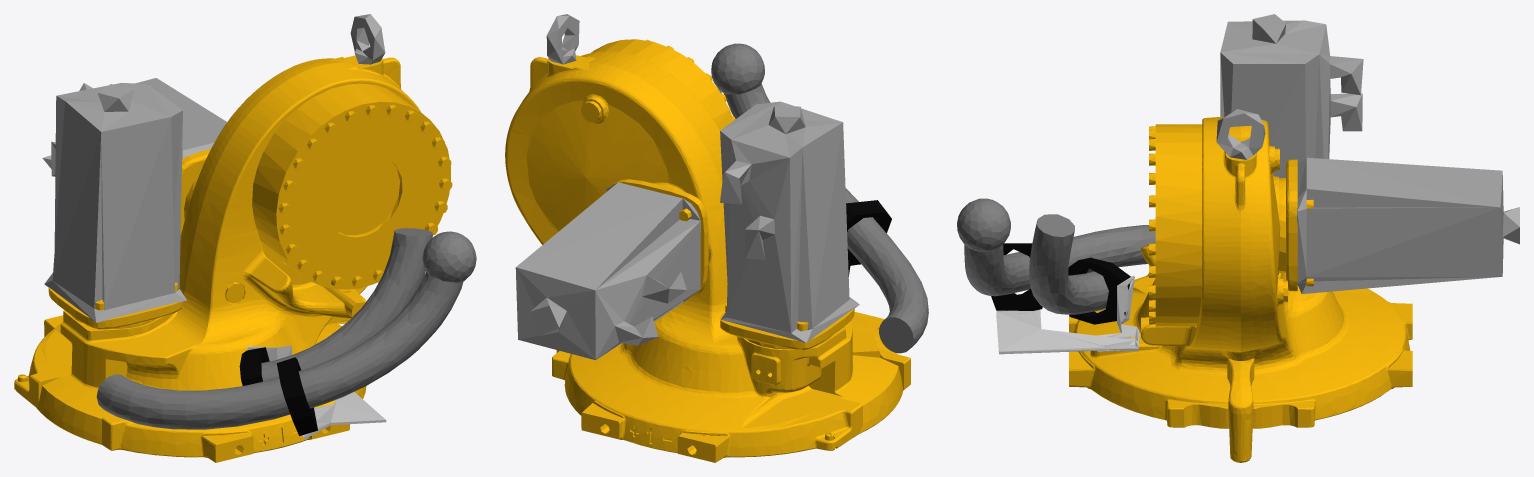
The picture shows the model from 3 angles, left to right: view 1: azimuth 30°, elevation 25°; view 2: azimuth 150°, elevation 25°; view 3: azimuth 270°, elevation 25°; orthographic projection.
Parts seen in each view (by area): view 1: node0, node1, node9, node5, node2, node10, node3, node4, node8, node6; view 2: node0, node1, node2, node9, node10, node8, node3; view 3: node0, node2, node1, node9, node5, node4, node10, node8, node6, node7, node3.
Part boxes in pixels (bbox=[...]): node0: bbox=[14, 55, 452, 462]; node1: bbox=[44, 82, 186, 322]; node9: bbox=[96, 271, 463, 429]; node5: bbox=[261, 228, 432, 381]; node2: bbox=[42, 78, 227, 168]; node10: bbox=[422, 231, 476, 282]; node3: bbox=[276, 357, 317, 435]; node4: bbox=[303, 392, 386, 439]; node8: bbox=[350, 14, 385, 64]; node6: bbox=[239, 347, 269, 385]; node0: bbox=[505, 39, 910, 462]; node1: bbox=[720, 101, 859, 342]; node2: bbox=[515, 182, 700, 360]; node9: bbox=[724, 84, 928, 353]; node10: bbox=[711, 43, 764, 94]; node8: bbox=[546, 14, 579, 64]; node3: bbox=[846, 200, 891, 265]; node0: bbox=[1069, 116, 1412, 462]; node2: bbox=[1297, 157, 1519, 293]; node1: bbox=[1220, 14, 1363, 177]; node9: bbox=[964, 225, 1155, 296]; node5: bbox=[1029, 214, 1108, 314]; node4: bbox=[996, 309, 1138, 354]; node10: bbox=[957, 198, 1010, 252]; node8: bbox=[1216, 109, 1265, 159]; node6: bbox=[1068, 257, 1130, 324]; node7: bbox=[1097, 276, 1139, 351]; node3: bbox=[991, 243, 1042, 310].
Size of the model in its own units: 0.4707 by 0.6258 by 0.4381.
